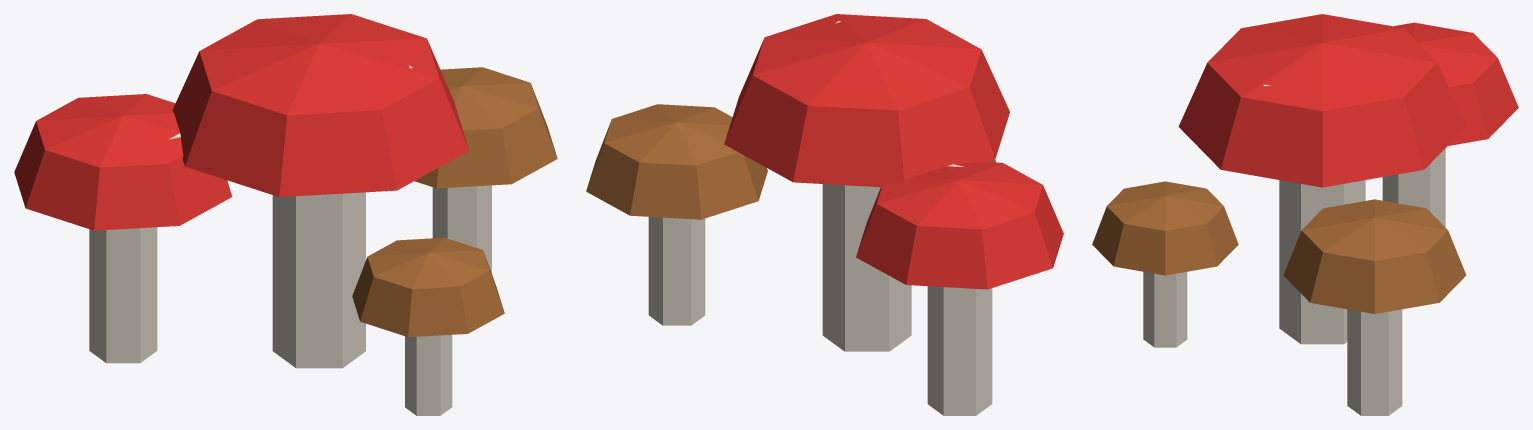
File: MushroomCluster.fbx
The picture shows the model from 3 angles, left to right: view 1: azimuth 30°, elevation 25°; view 2: azimuth 150°, elevation 25°; view 3: azimuth 270°, elevation 25°; orthographic projection. The views are drawn at different scales.
Parts seen in each view (by area): view 1: MushroomCluster; view 2: MushroomCluster; view 3: MushroomCluster.
Part boxes in pixels (x1=…): MushroomCluster: x1=14, y1=14, x2=557, y2=415; MushroomCluster: x1=586, y1=14, x2=1063, y2=415; MushroomCluster: x1=1092, y1=14, x2=1518, y2=415.
Bounding box in the file's own units: 2.05 × 1.2 × 1.63.
1 material, 1 textured.
